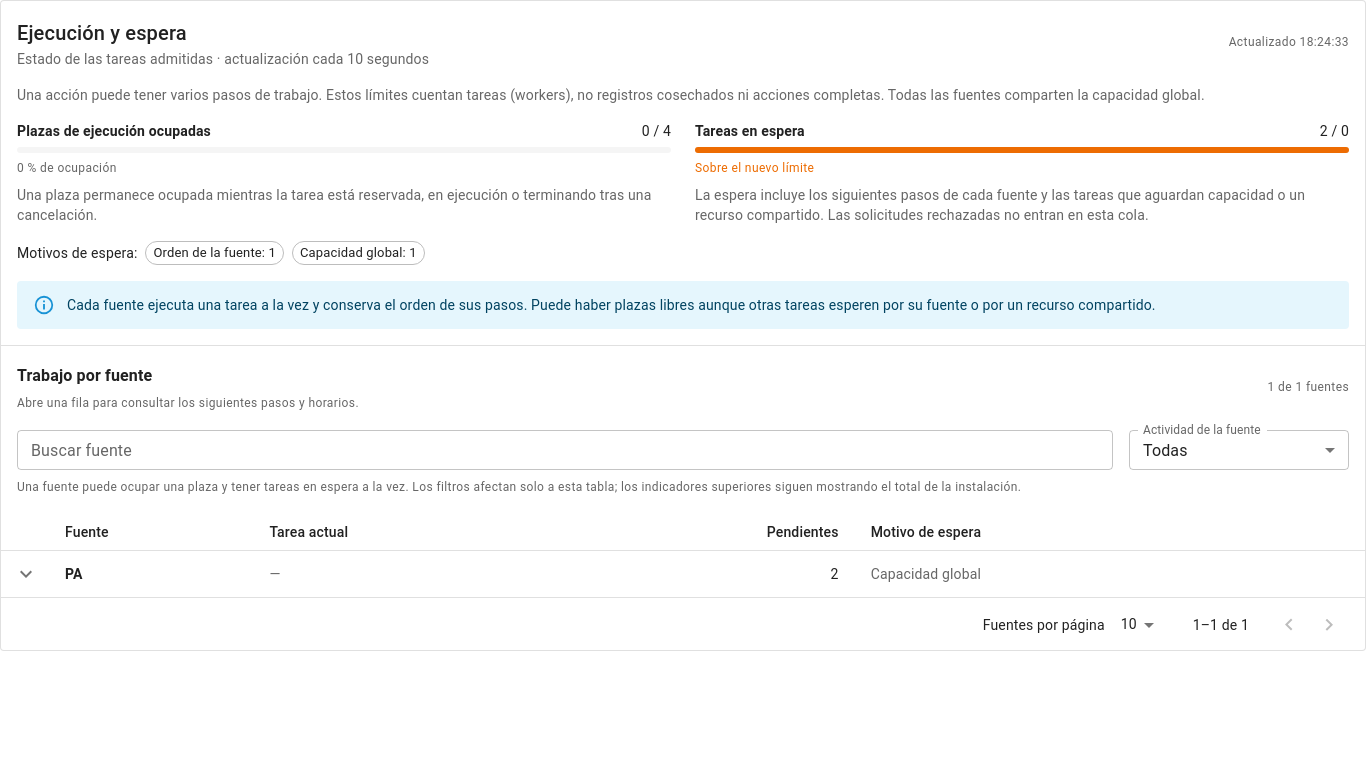
Test: Runtime queue presentation › preserves admission order and shows an unknown task name without losing it
What coordinates should you click on to do the following:
click the button named "Mostrar detalle de PA"
I would click on:
 (26, 574)
Its box is [9, 557, 43, 591].
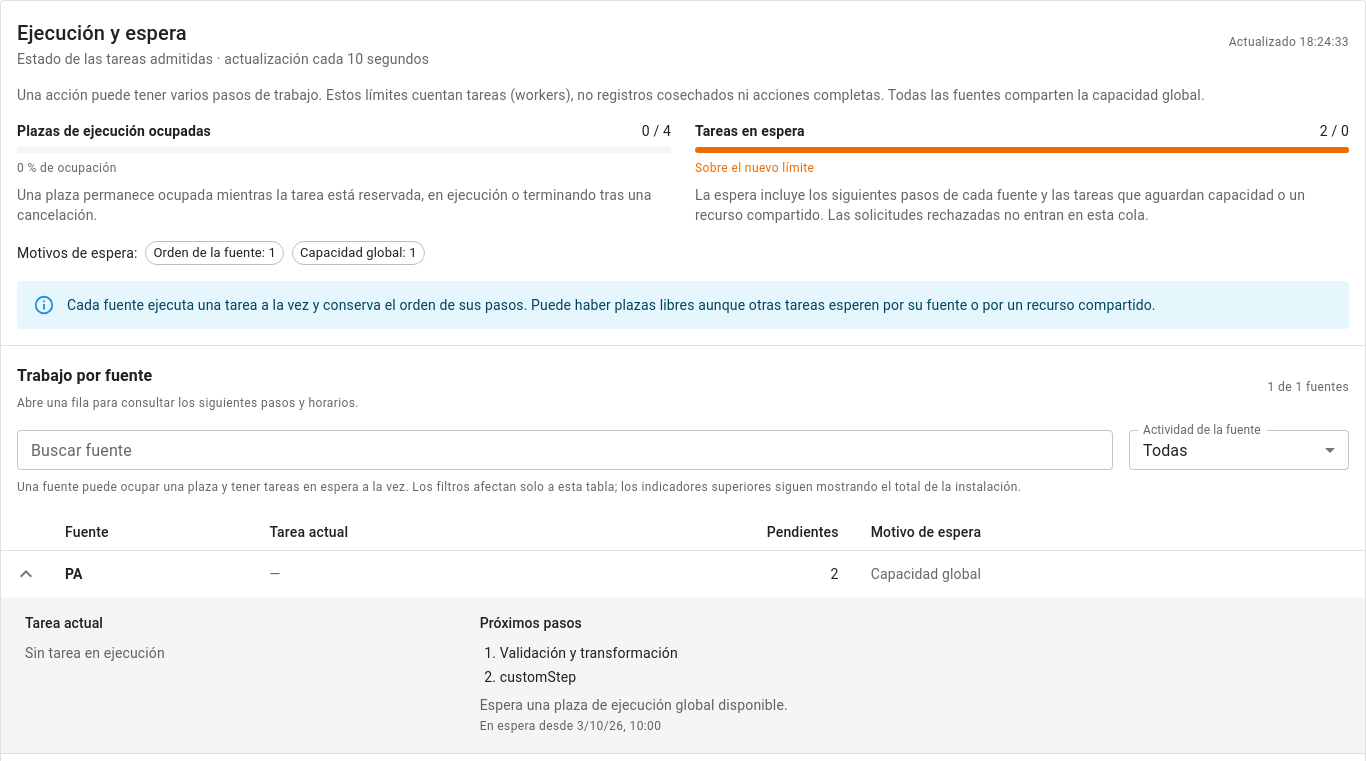
Expected: the text "Sobre el nuevo límite" is shown, [695, 161, 814, 175]
Now the list items read "Validación y transformación", "customStep", in this order, box [500, 645, 678, 661]; [500, 669, 576, 685]
